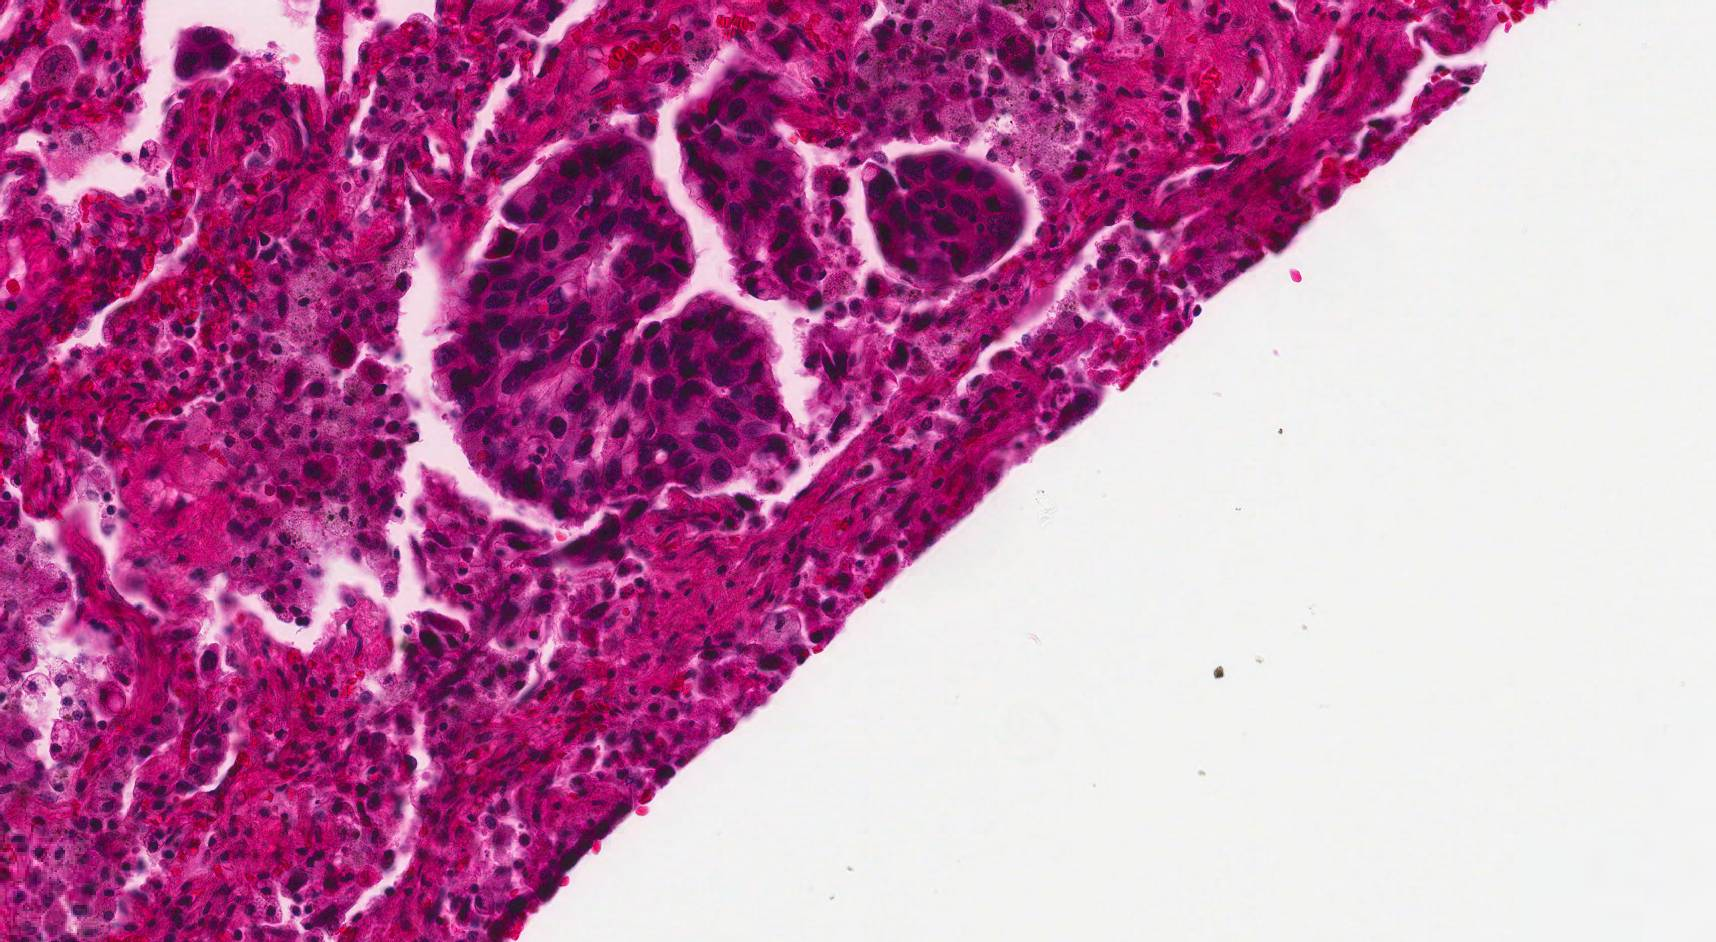stas: (432, 128, 799, 521), (673, 61, 828, 309), (861, 152, 1027, 289), (174, 27, 236, 79)
